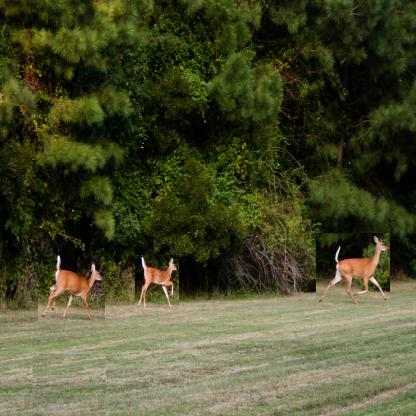Deer: (316, 233, 390, 307), (38, 252, 105, 322), (135, 255, 179, 312)
